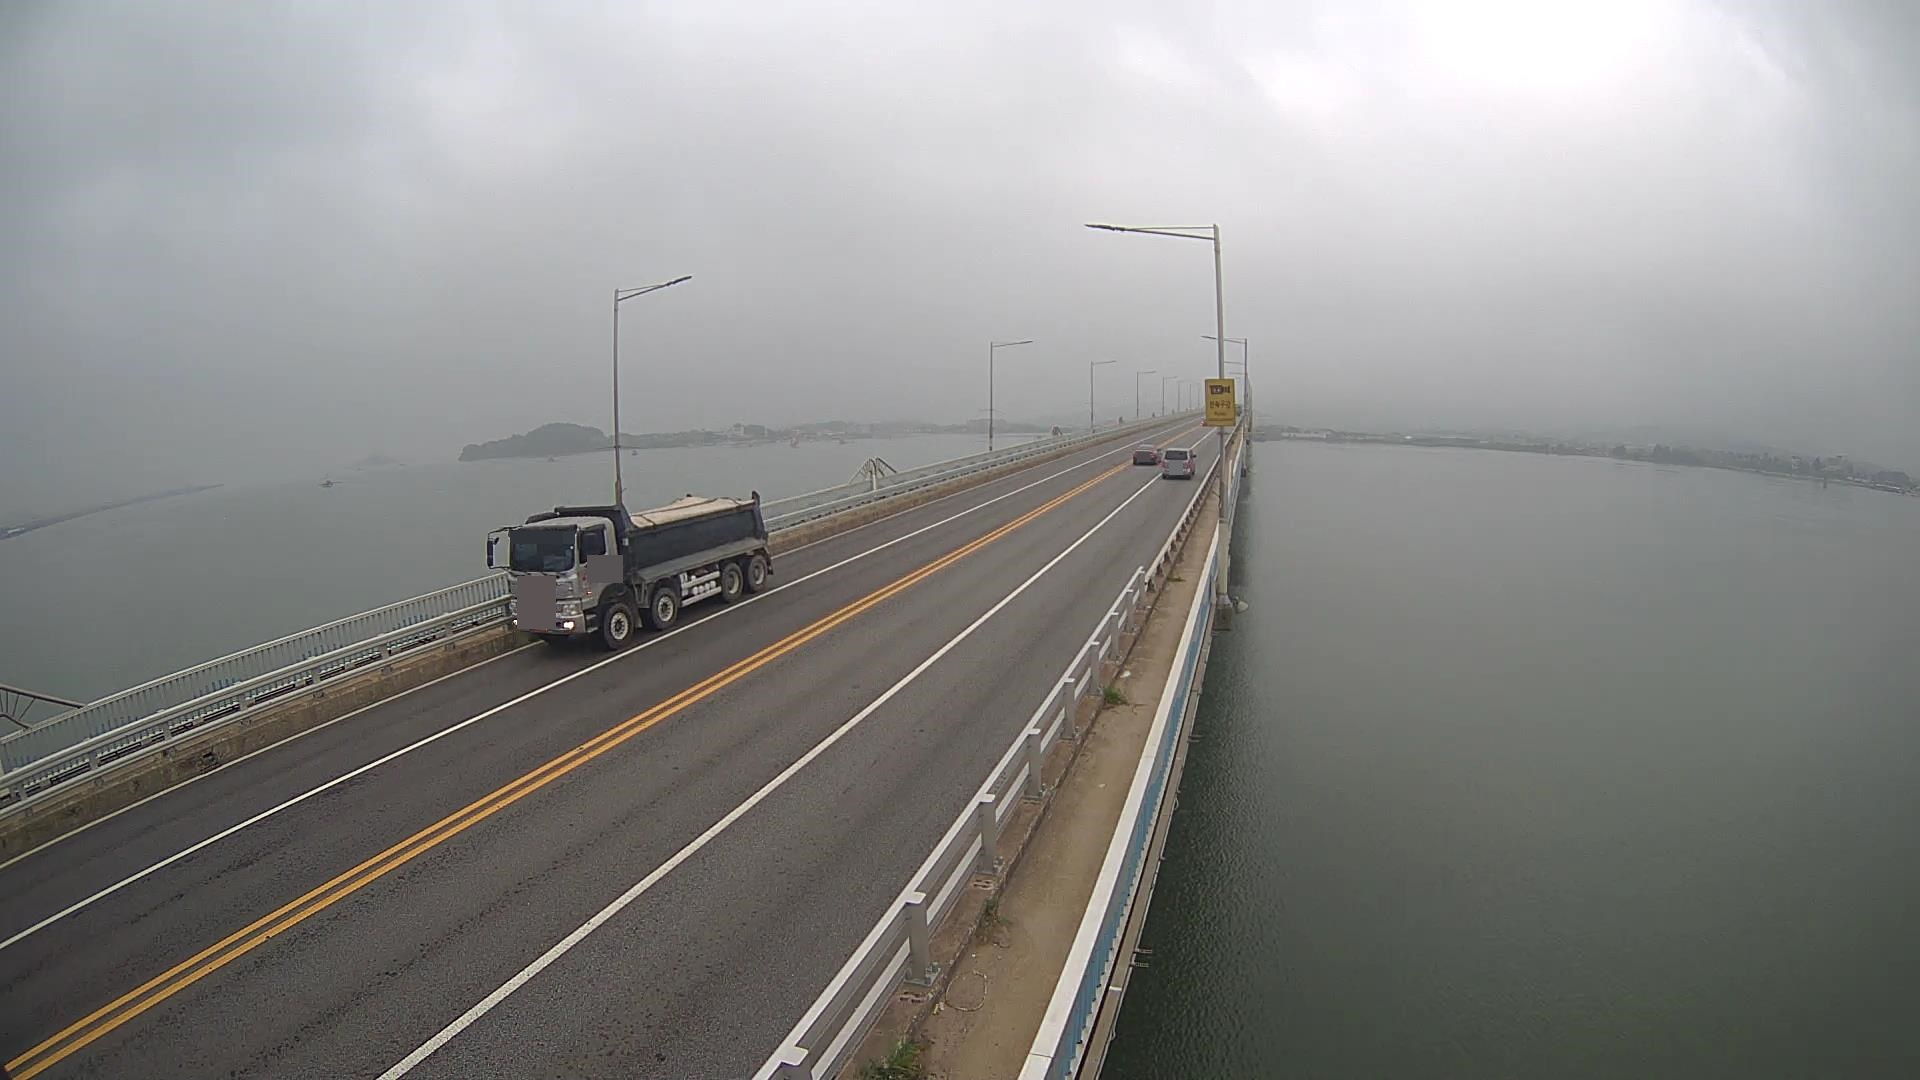정상차량: (487, 489, 774, 650)
